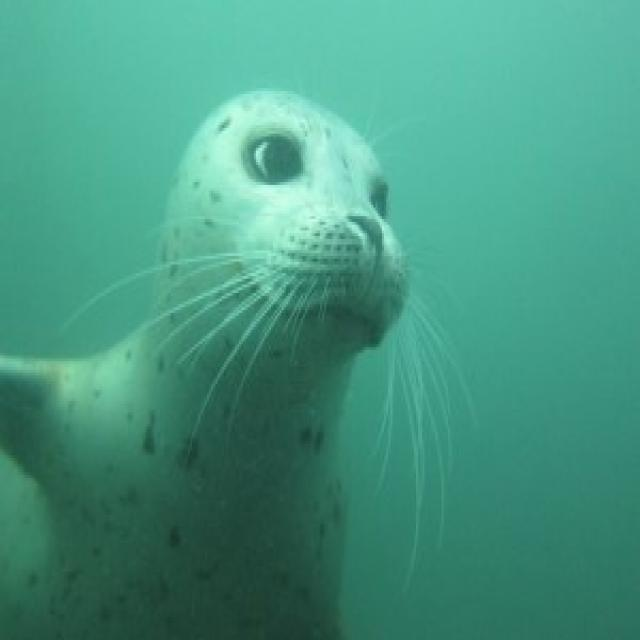Seal: (0, 85, 439, 640)
